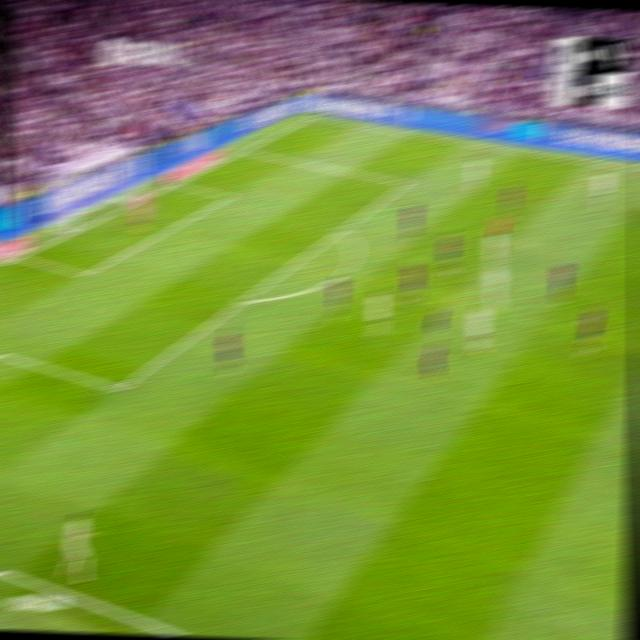bigarea_bottom_inner: (109, 374, 129, 402)
bigarea_top_inner: (398, 174, 413, 188)
bottom_arc_area_intersection: (234, 291, 251, 308)
corner: (305, 112, 320, 120)
smallarea_top_inner: (222, 190, 236, 202)
top_arc_area_intersection: (333, 220, 349, 236)
